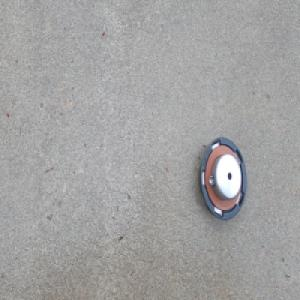FuelCap: (198, 135, 247, 221)
